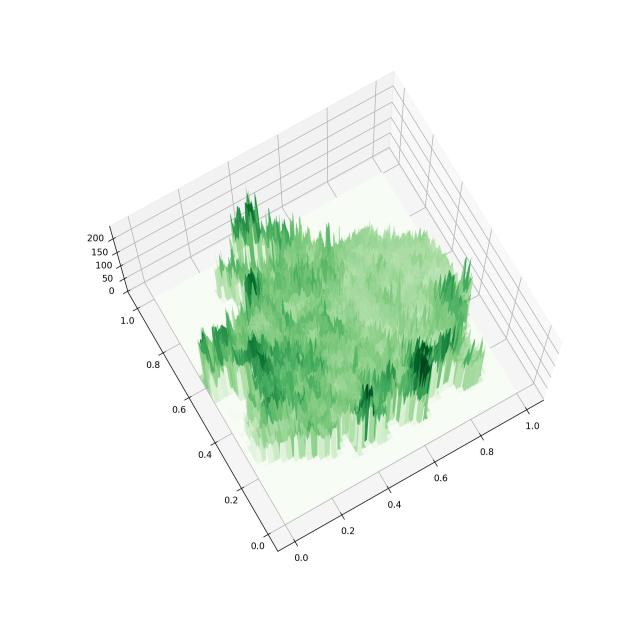spruce: (62, 55, 588, 590)
